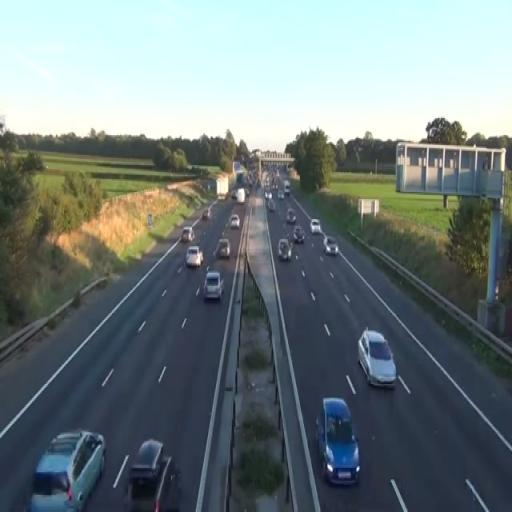Car: (25, 430, 107, 510), (122, 438, 180, 512), (315, 397, 361, 486), (358, 329, 397, 388), (203, 270, 224, 302), (186, 245, 204, 268), (278, 238, 292, 261), (217, 238, 230, 260), (324, 236, 338, 256), (294, 225, 304, 244), (310, 219, 321, 235), (230, 213, 240, 228)
